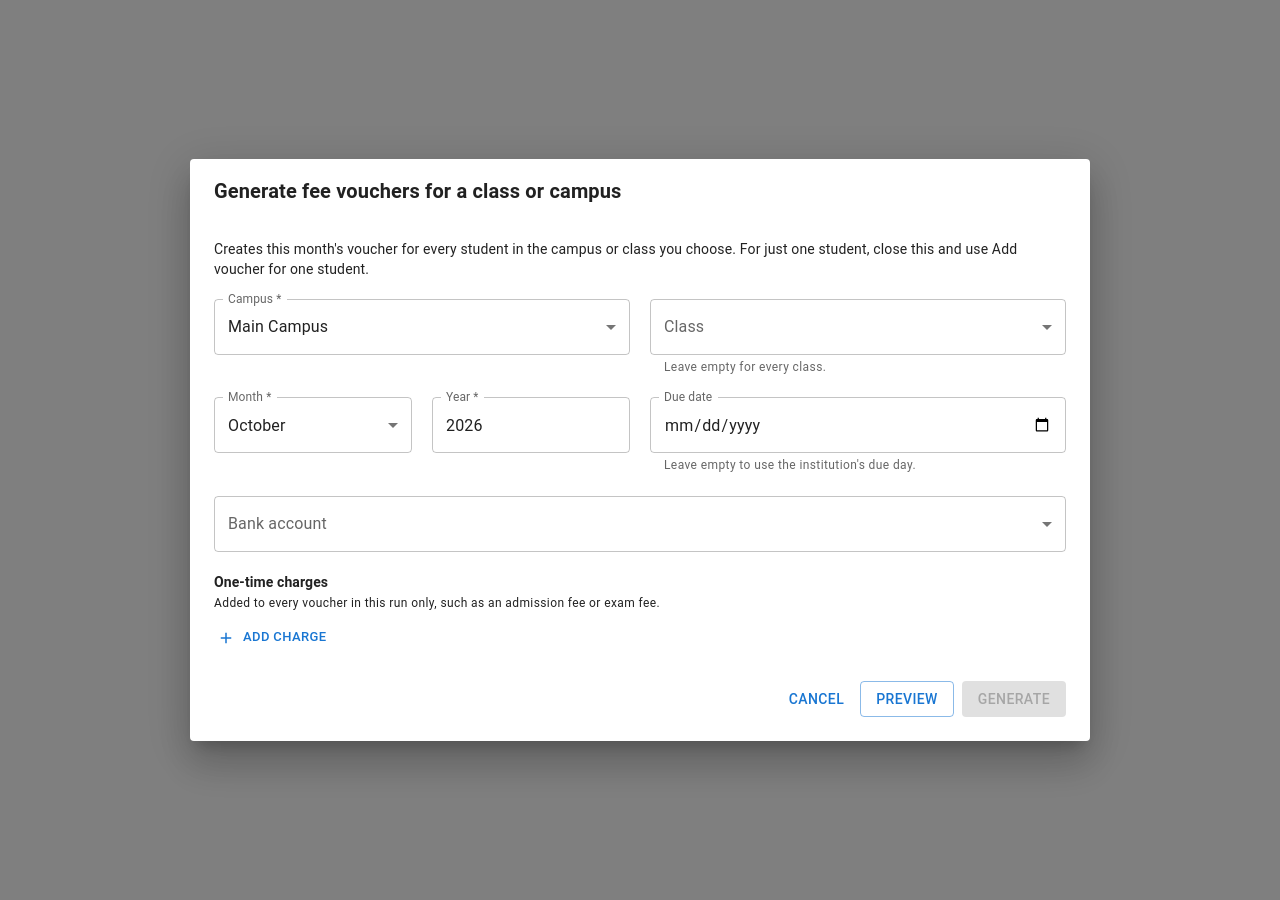
Test case: GenerateVouchersDialog › cannot generate when the preview shows nothing to create
Click the button "Preview" at coordinates (907, 699), box top-left (860, 681), bottom-right (954, 718)
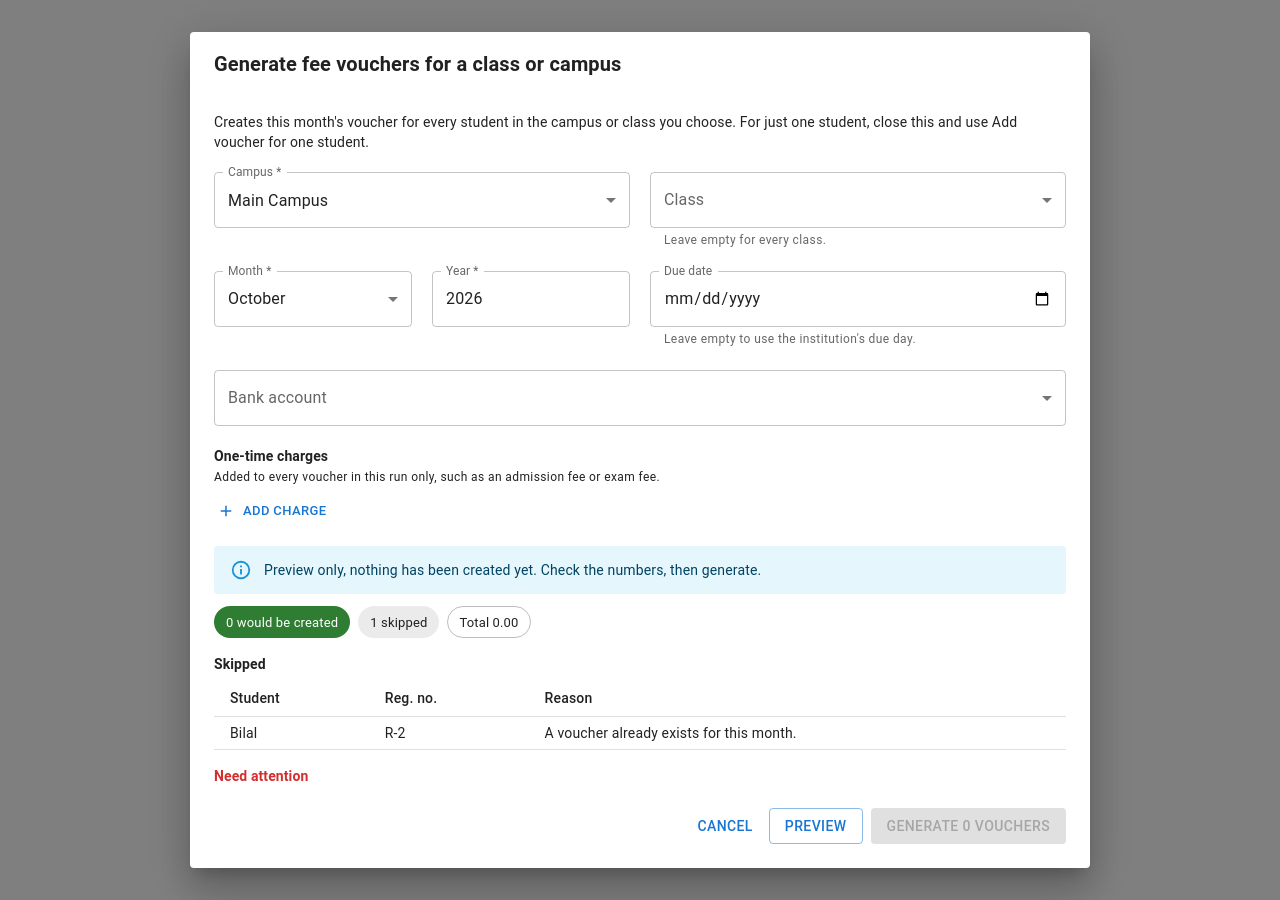
Check: the button "Generate 0 vouchers" is disabled, box top-left (870, 808), bottom-right (1066, 844)
Check: the text "0 would be created" is shown, box top-left (226, 615), bottom-right (338, 630)
